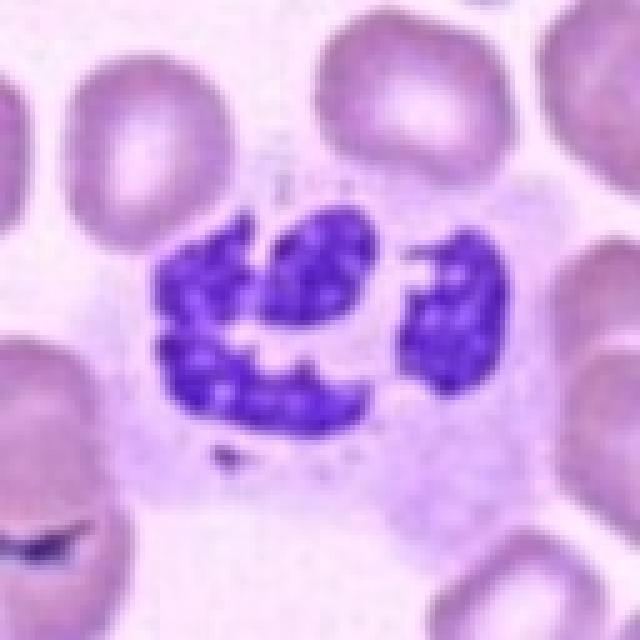neutro: (83, 40, 545, 495)
